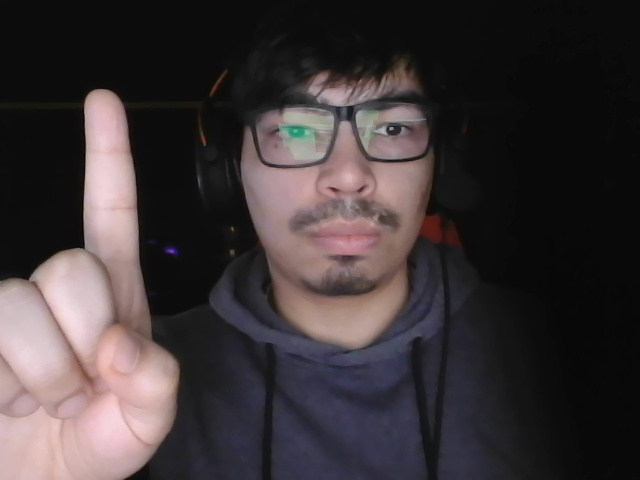one: (1, 81, 182, 480)
